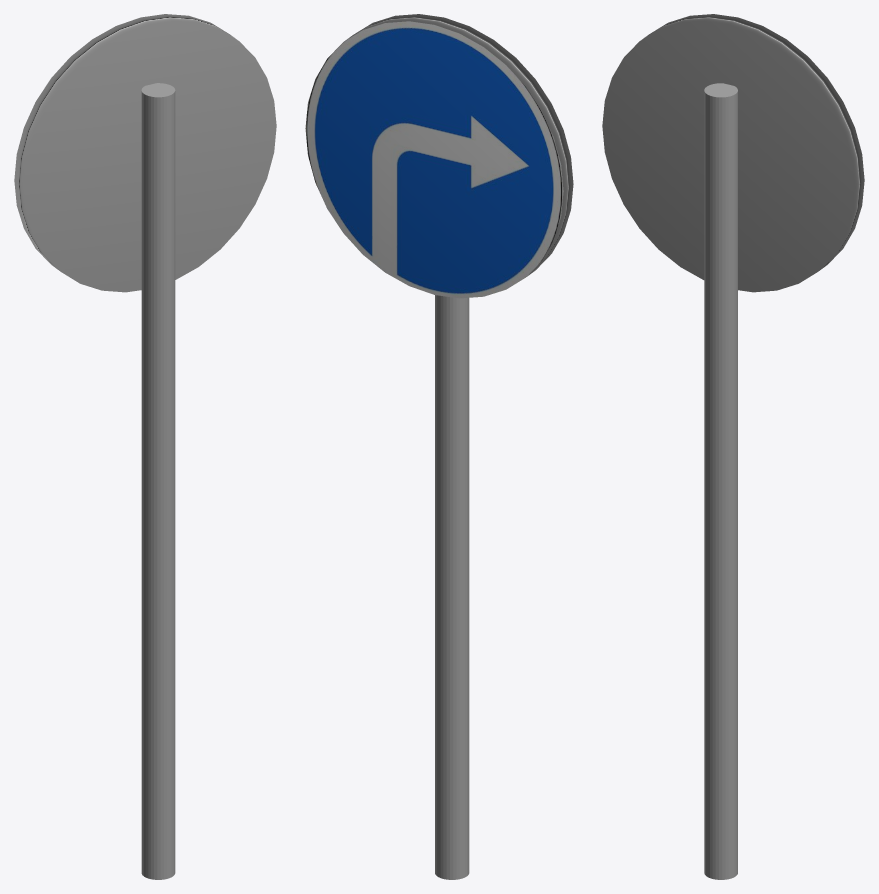
Rendered from ЗнакДвижениеНаправо.fbx.
3 views of the same model, side by side, from view 1: azimuth 30°, elevation 25°; view 2: azimuth 150°, elevation 25°; view 3: azimuth 330°, elevation 25° (orthographic). The views are drawn at different scales.
Visible parts, largest first — view 1: Знак; view 2: Знак; view 3: Знак.
Part boxes in pixels (left/top/right/bottom): Знак: left=14, top=14, right=276, bottom=879; Знак: left=305, top=14, right=573, bottom=879; Знак: left=602, top=14, right=864, bottom=879.
Bounding box in the file's own units: 64.18 × 361 × 1150.
Materials: 2 (1 with a texture image).
